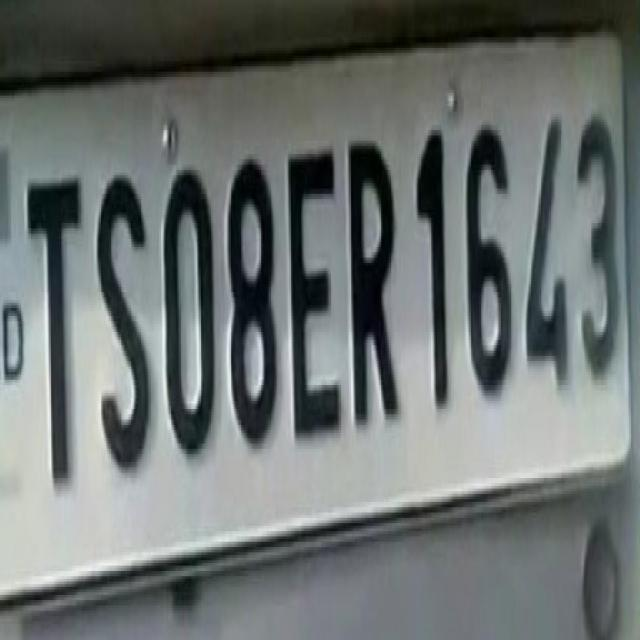0: (158, 150, 219, 473)
1: (412, 114, 454, 442)
3: (576, 80, 624, 406)
4: (524, 69, 570, 399)
6: (459, 84, 516, 434)
8: (226, 150, 278, 467)
E: (285, 133, 344, 454)
R: (340, 116, 404, 443)
S: (94, 165, 150, 482)
T: (21, 162, 88, 512)
